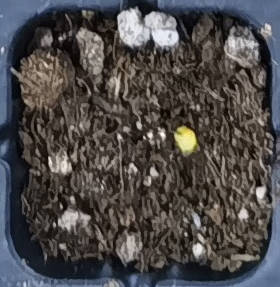pepper seed: (75, 45, 272, 203)
